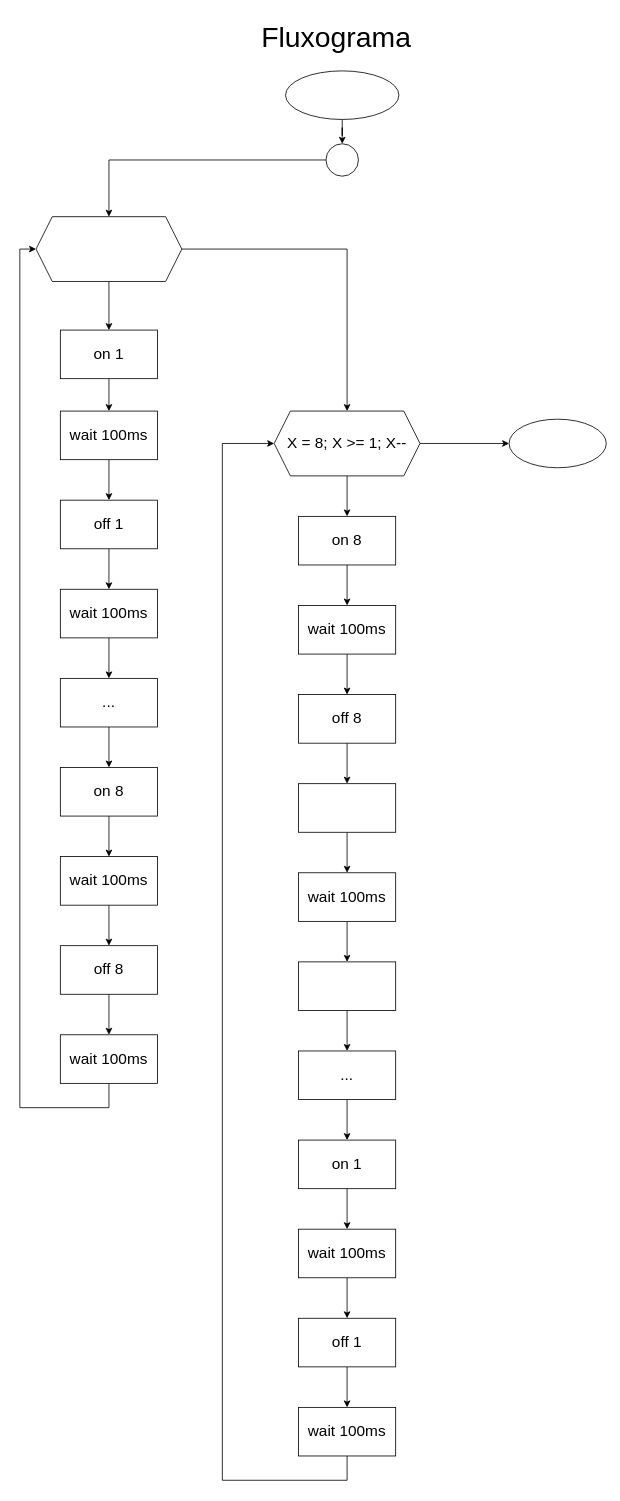
Some shapes in this 620 by 1501 pixel diagram are drawn without their labels. Here are the shapes that lost their labels. From the top down, the box of each, then its label:
(285, 70, 399, 119): INICIO
(35, 216, 182, 281): X = 1; X <= 8; X++
(508, 418, 606, 468): Fim
(298, 783, 396, 832): on 7
(298, 961, 396, 1010): off 7
